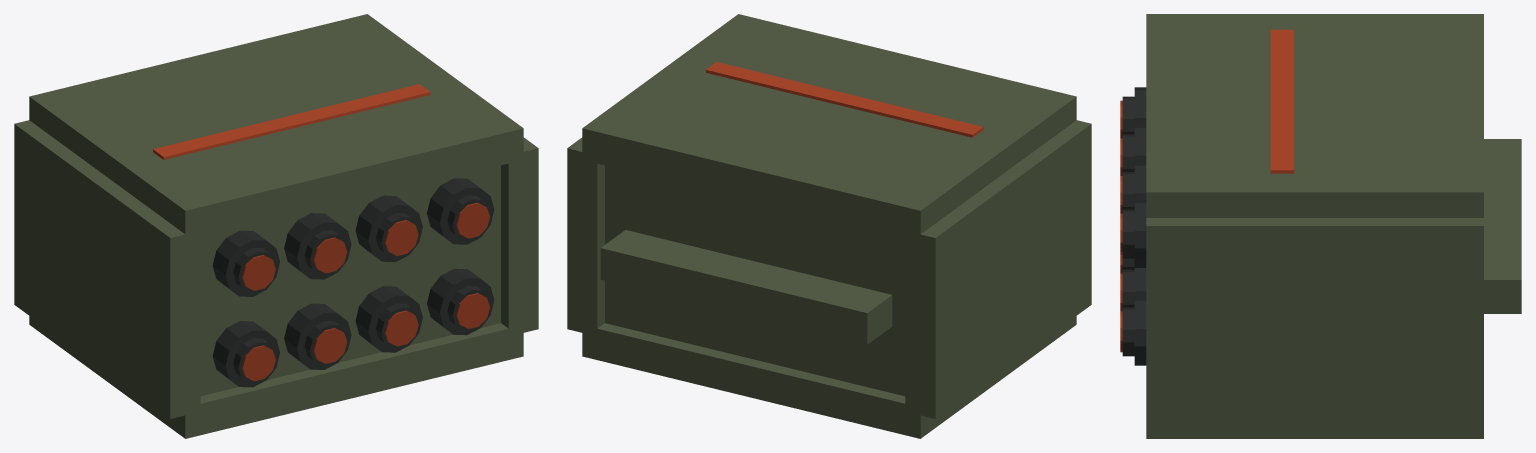
The model's file is Bastion_HT77_MissilePod.obj.
The picture shows the model from 3 angles, left to right: view 1: azimuth 30°, elevation 25°; view 2: azimuth 150°, elevation 25°; view 3: azimuth 270°, elevation 25°; orthographic projection. The views are drawn at different scales.
Visible parts, largest first — view 1: Bastion_HT77_MissilePod; view 2: Bastion_HT77_MissilePod; view 3: Bastion_HT77_MissilePod.
Part boxes in pixels (bbox=[...]): Bastion_HT77_MissilePod: bbox=[14, 14, 538, 438]; Bastion_HT77_MissilePod: bbox=[567, 14, 1091, 438]; Bastion_HT77_MissilePod: bbox=[1120, 14, 1521, 438].
Size of the model in its own units: 1.96 by 1.19 by 1.71.
Materials: 1 (1 with a texture image).
